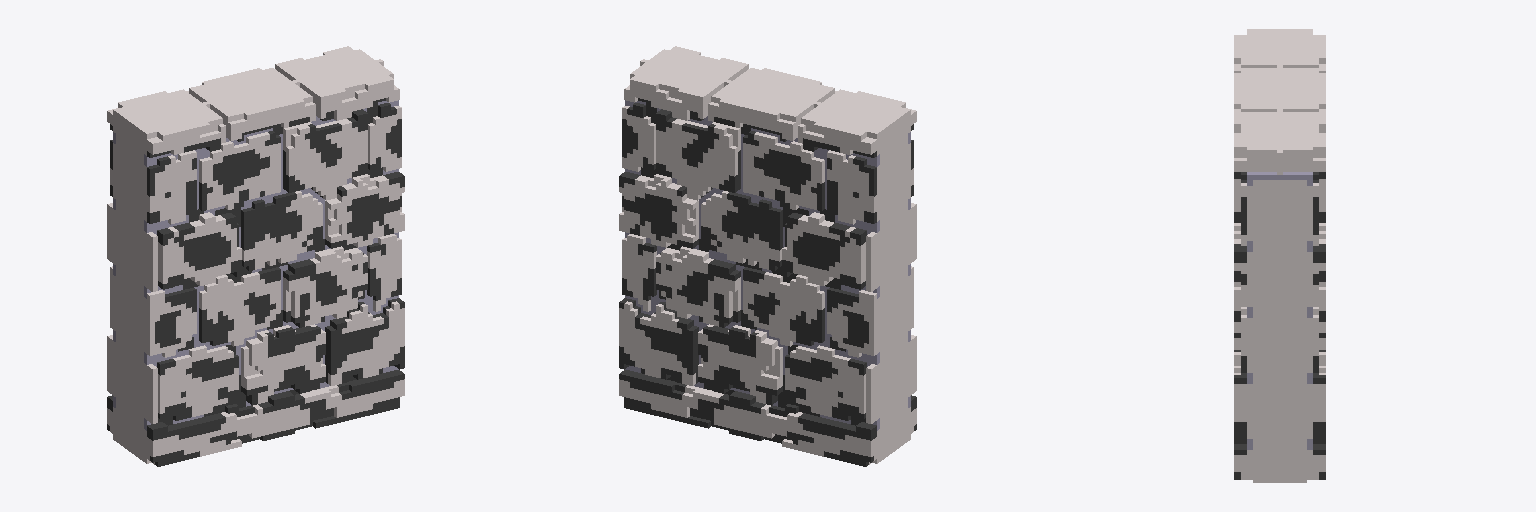
3 views of the same model, side by side, from view 1: azimuth 30°, elevation 25°; view 2: azimuth 150°, elevation 25°; view 3: azimuth 270°, elevation 25° (orthographic).
Visible parts, largest first — view 1: object 1; view 2: object 1; view 3: object 1.
Boxes of the visible parts, x1=… form: object 1: x1=107, y1=46, x2=404, y2=466; object 1: x1=619, y1=46, x2=916, y2=466; object 1: x1=1234, y1=29, x2=1325, y2=482.
Bounding box in the file's own units: 4.8 × 6 × 1.5.
Materials: 1 (1 with a texture image).